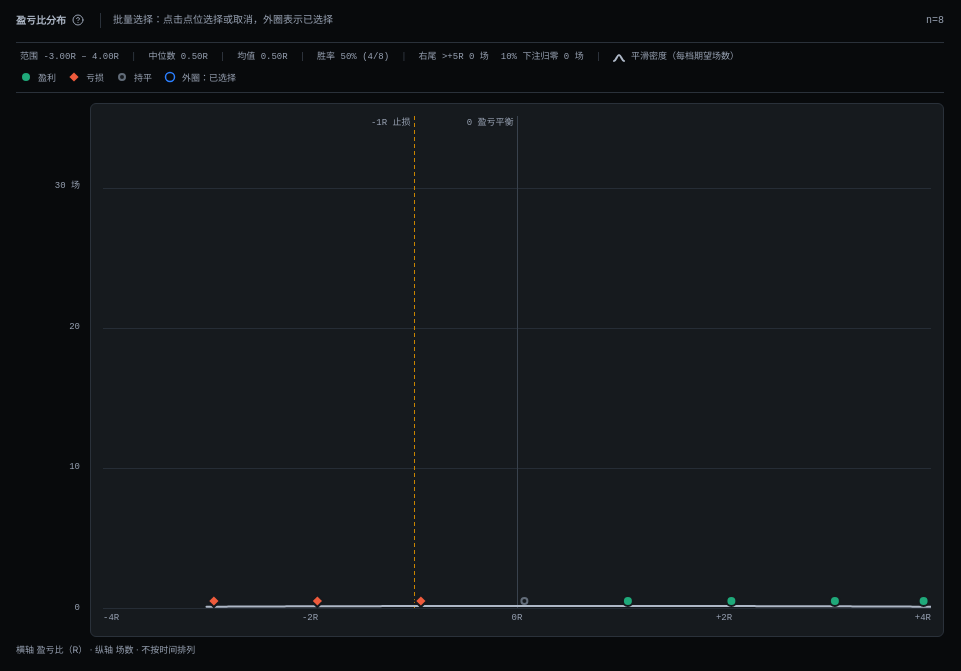
it: CampaignMetricScatterPlot batch selection › click, Enter and Space toggle only selection; hovering never selects or navigates
The image size is (961, 671).
Later steps or results of the test are not shown.
Expected: the text "批量选择：点击点位选择或取消，外圈表示已选择" is shown, [100,12,914,28]
Hover over the button named "第 3 场，战役 2，盈亏比分布 -1.00R，操作时间 2023-11-15 06:13:20，未选择，点击选择": (421, 601) [414,594,428,608]
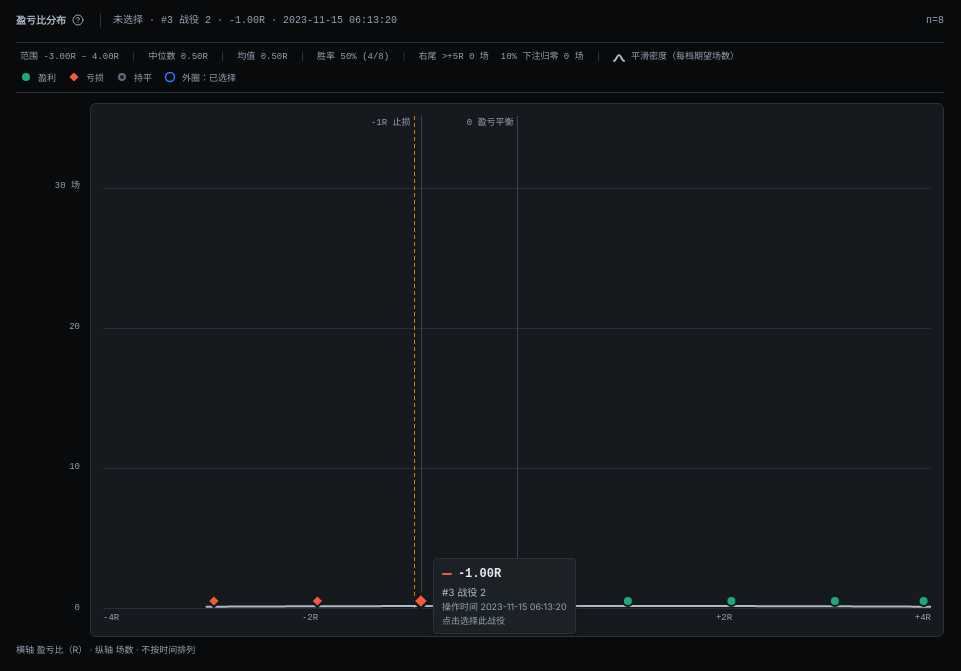
Expected: the element with test id "chart-tooltip" shows "点击选择此战役", [442,614,505,626]
Click the button named "第 3 场，战役 2，盈亏比分布 -1.00R，操作时间 2023-11-15 06:13:20，未选择，点击选择": click(421, 601) [414,594,428,608]
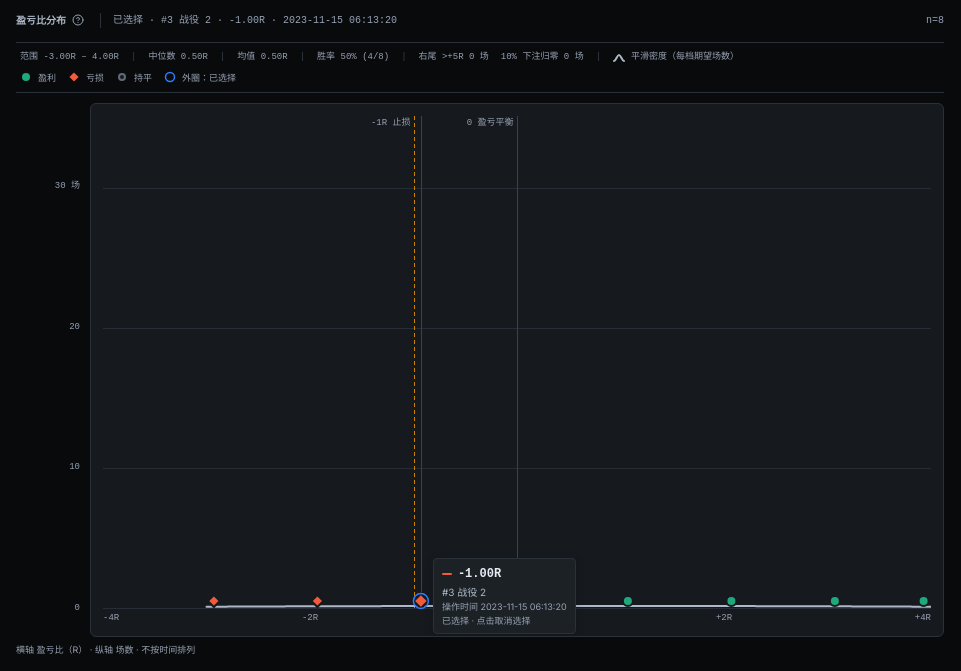
Expected: the element with test id "chart-tooltip" shows "已选择 · 点击取消选择", [442,614,531,626]
